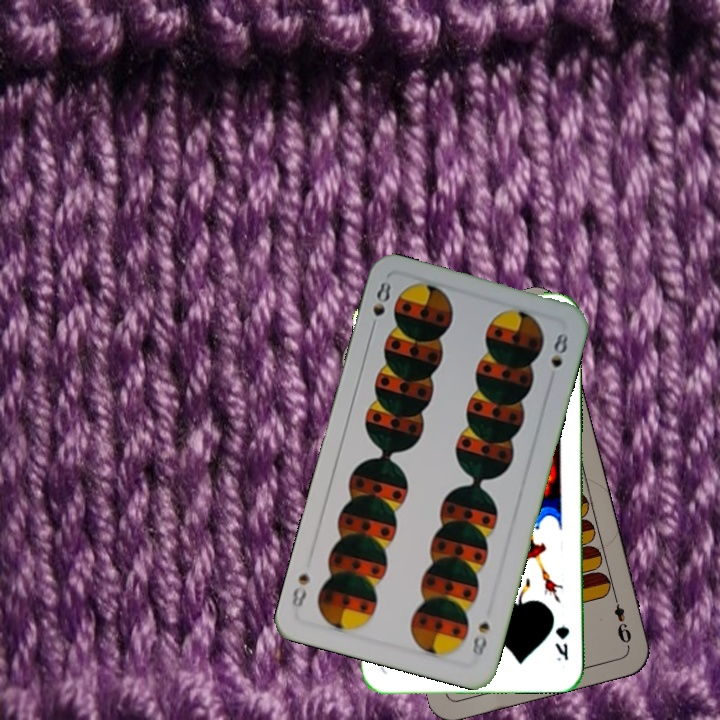E9: (609, 591, 634, 649)
GK: (551, 622, 571, 663)
S8: (366, 276, 394, 335), (468, 618, 492, 660)
